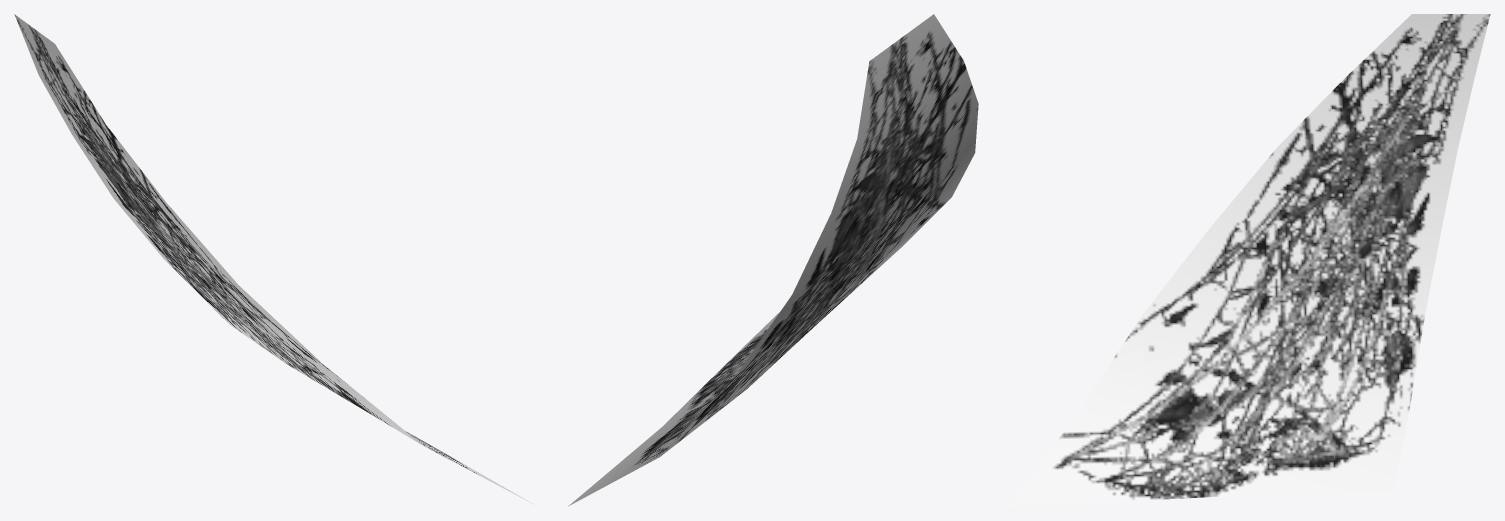
File: SM_Spiderweb_01.gltf
3 views of the same model, side by side, from view 1: azimuth 30°, elevation 25°; view 2: azimuth 150°, elevation 25°; view 3: azimuth 270°, elevation 25° (orthographic). The views are drawn at different scales.
Parts seen in each view (by area): view 1: SM_Spiderweb_01_LOD0; view 2: SM_Spiderweb_01_LOD0; view 3: SM_Spiderweb_01_LOD0.
Boxes of the visible parts, x1,y1,x2,y2 form: SM_Spiderweb_01_LOD0: [14, 14, 537, 506]; SM_Spiderweb_01_LOD0: [568, 14, 978, 506]; SM_Spiderweb_01_LOD0: [1007, 14, 1490, 506].
Size of what is drawn, in the model's own units: 0.2413 by 0.3168 by 0.3815.
